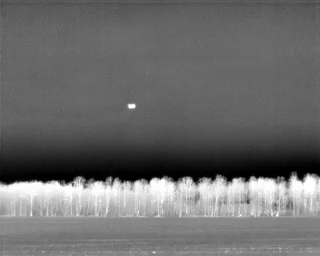DRONE: (124, 99, 140, 113)
